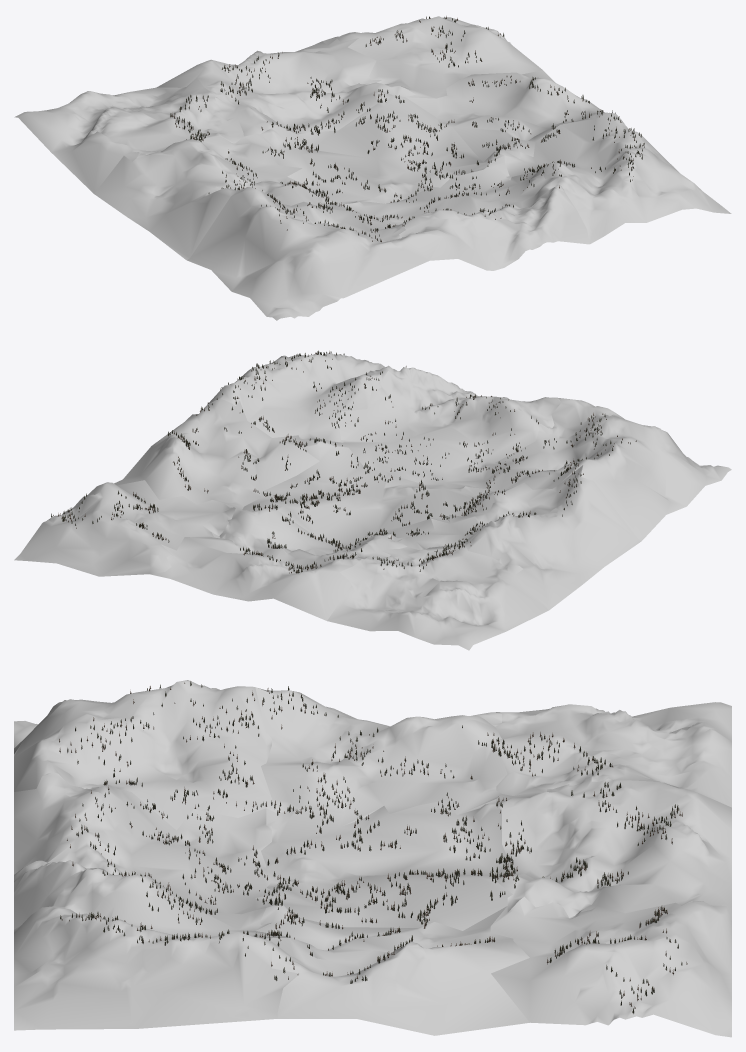
Rendered from mesh_terrain.fbx.
The picture shows the model from 3 angles, top to bottom: view 1: azimuth 30°, elevation 25°; view 2: azimuth 150°, elevation 25°; view 3: azimuth 270°, elevation 25°; orthographic projection. The views are drawn at different scales.
Parts seen in each view (by area): view 1: block7, block5, block8, block4, block9, block2, block1, block6, block3, trees5, trees2, trees6 (+4 smaller); view 2: block8, block4, block1, block7, block2, block3, block5, block6, block9, trees5, trees8, trees2 (+5 smaller); view 3: block9, block2, block7, block3, block5, block6, block8, block4, block1, trees5, trees4, trees2 (+6 smaller).
Boxes of the visible parts, x1,y1,x2,y2 form: block7: (187, 187, 442, 320); block5: (257, 95, 503, 204); block8: (338, 156, 589, 270); block4: (94, 134, 335, 259); block9: (504, 111, 731, 243); block2: (156, 38, 415, 136); block1: (14, 78, 243, 193); block6: (406, 70, 603, 161); block3: (322, 16, 542, 98); trees5: (261, 94, 499, 198); trees2: (220, 52, 388, 133); trees6: (447, 75, 603, 149); block8: (320, 367, 560, 488); block4: (399, 465, 641, 610); block1: (327, 547, 548, 650); block7: (486, 398, 731, 541); block2: (150, 507, 407, 620); block3: (14, 480, 235, 576); block5: (242, 440, 486, 545); block6: (114, 399, 319, 509); block9: (193, 353, 397, 442); trees5: (253, 437, 464, 545); trees8: (342, 394, 531, 480); trees2: (240, 507, 381, 573); block9: (14, 868, 299, 1030); block2: (496, 777, 731, 920); block7: (14, 680, 271, 830); block3: (490, 896, 731, 1037); block5: (255, 799, 512, 930); block6: (256, 904, 529, 1035); block8: (14, 772, 276, 929); block4: (255, 687, 507, 826); block1: (496, 702, 731, 807); trees5: (258, 798, 505, 924); trees4: (260, 686, 504, 820); trees2: (505, 782, 682, 888).
Size of the model in its own units: 2000 by 280 by 2000.
